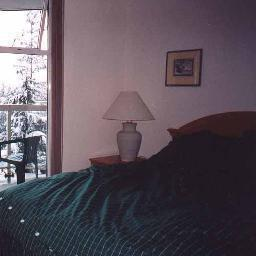Cama: (3, 136, 245, 250)
